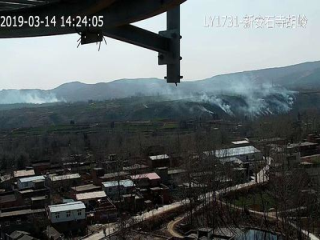smoke: (171, 86, 301, 124), (3, 85, 69, 110)
